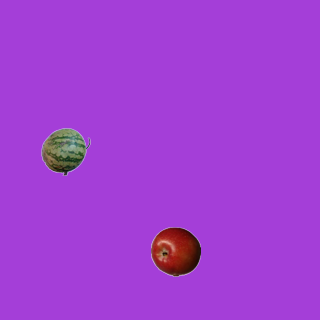Apple Braeburn: (150, 226, 200, 276)
Watermelon: (40, 126, 90, 176)
